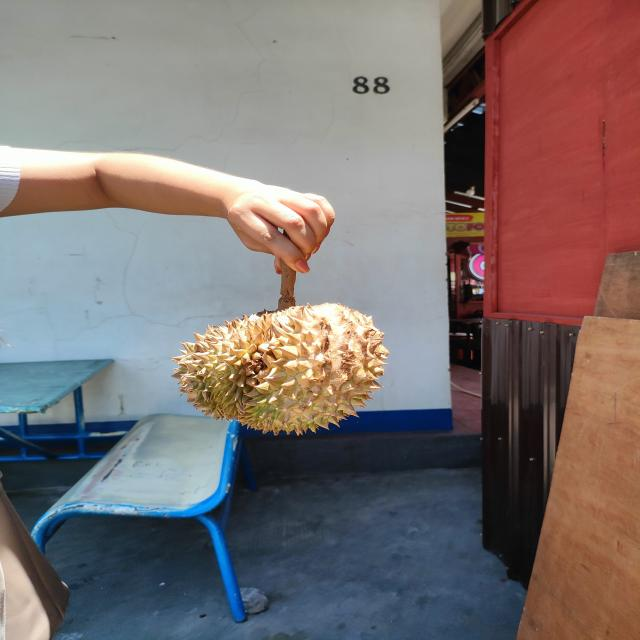mature: (170, 302, 390, 436)
